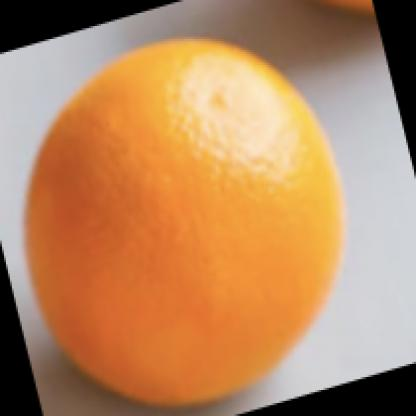orange: (21, 34, 350, 406)
